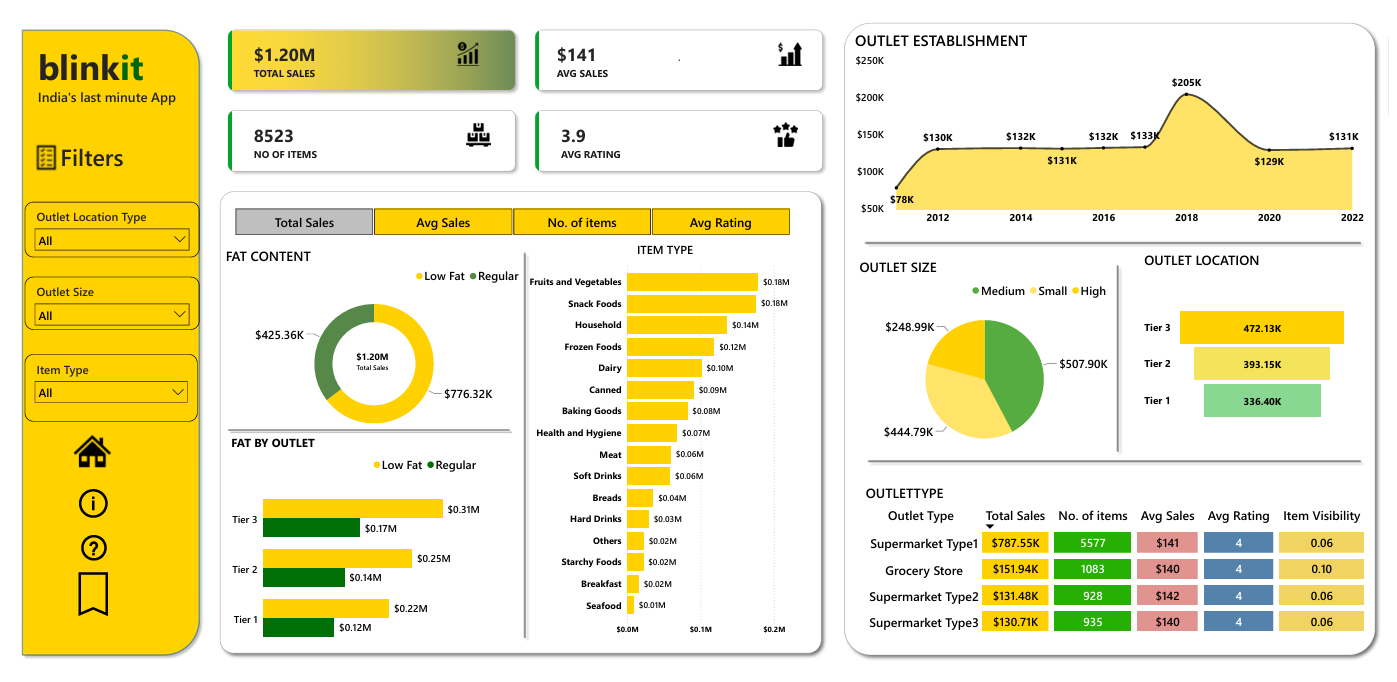

This screenshot's page, from the dashboard's own definition file:
{"tool":"powerbi","page":{"name":"Blinkit_Dashboard","canvas":[2200,1050],"ordinal":0},"visuals":[{"type":"shape","box":[3.2,14.6,301.9,1019.5],"z":0},{"type":"textbox","box":[32.5,39,193.2,99],"z":1000},{"type":"textbox","box":[32.5,112,241.9,51.9],"z":2000},{"type":"cardVisual","fields":{"Data":["BlinkIT Grocery Data.Total Sales","BlinkIT Grocery Data.Avg Sales","BlinkIT Grocery Data.No. of items","BlinkIT Grocery Data.Avg Rating"]},"box":[318.2,0,1000,276],"z":3000},{"type":"shape","box":[318.1,271.6,985.2,761.6],"z":4000},{"type":"donutChart","title":"FAT CONTENT","fields":{"Y":["BlinkIT Grocery Data.Total Sales"],"Category":["BlinkIT Grocery Data.Item Fat Content"]},"box":[337.7,370.7,475.5,312.5],"z":5000},{"type":"slicer","fields":{"Values":["Metrics.Metrics"]},"box":[328.4,302.6,937,56.7],"z":6000},{"type":"cardVisual","fields":{"Data":["BlinkIT Grocery Data.Total Sales"]},"box":[518.2,518.2,110.6,71.8],"z":7000},{"type":"clusteredBarChart","title":"FAT BY OUTLET","fields":{"Y":["BlinkIT Grocery Data.Total Sales"],"Category":["BlinkIT Grocery Data.Outlet Location Type"],"Series":["BlinkIT Grocery Data.Item Fat Content"]},"box":[342.1,672.2,407.5,364.5],"z":8000},{"type":"barChart","title":"ITEM TYPE","fields":{"Y":["BlinkIT Grocery Data.Total Sales"],"Category":["BlinkIT Grocery Data.Item Type"]},"box":[818.2,362,446.4,639.6],"z":9000},{"type":"shape","box":[1318.2,1.6,871.8,1034.1],"z":10000},{"type":"lineChart","title":"OUTLET ESTABLISHMENT","fields":{"Category":["BlinkIT Grocery Data.Outlet Establishment Year"],"Y":["BlinkIT Grocery Data.Total Sales"]},"box":[1341.1,24.1,825.3,321.5],"z":11000},{"type":"donutChart","title":"OUTLET SIZE","fields":{"Y":["BlinkIT Grocery Data.Total Sales"],"Category":["BlinkIT Grocery Data.Outlet Size"]},"box":[1353.1,388.6,400.6,321.5],"z":12000},{"type":"funnel","title":"OUTLET LOCATION","fields":{"Y":["Sum(BlinkIT Grocery Data.Sales)"],"Category":["BlinkIT Grocery Data.Outlet Location Type"]},"box":[1803.5,378.2,335.3,331.8],"z":13000},{"type":"pivotTable","title":"OUTLETTYPE","fields":{"Rows":["BlinkIT Grocery Data.Outlet Type"],"Values":["BlinkIT Grocery Data.Total Sales","BlinkIT Grocery Data.No. of items","BlinkIT Grocery Data.Avg Sales","BlinkIT Grocery Data.Avg Rating","Avg(BlinkIT Grocery Data.Item Visibility)"]},"box":[1363.4,749.6,827,287.1],"z":14000},{"type":"slicer","fields":{"Values":["BlinkIT Grocery Data.Outlet Location Type"]},"box":[15.5,298.9,280.8,89.3],"z":15000},{"type":"slicer","fields":{"Values":["BlinkIT Grocery Data.Outlet Size"]},"box":[15.5,419.2,280.8,84.4],"z":16000},{"type":"slicer","fields":{"Values":["BlinkIT Grocery Data.Item Type"]},"box":[15.5,543.4,277.6,107.1],"z":17000},{"type":"textbox","box":[67.9,196,159.1,75.7],"z":18000},{"type":"actionButton","title":"cfghygvhbhb","box":[100.9,826.8,56.3,52.4],"z":19000},{"type":"actionButton","box":[97,741.4,58.2,81.5],"z":20000},{"type":"actionButton","box":[15.5,196,68.2,63.3],"z":21000},{"type":"actionButton","box":[83.5,659.8,85.4,81.5],"z":22000},{"type":"actionButton","box":[83.5,875.3,85.4,102.9],"z":23000},{"type":"shape","box":[696.4,371.8,241.9,634.7],"z":24000},{"type":"shape","box":[337,653.3,460.8,22.4],"z":25000},{"type":"shape","box":[1353.1,355.9,811.5,15.5],"z":26000},{"type":"shape","box":[1645.4,392,242.4,316.4],"z":27000},{"type":"shape","box":[1358.2,682.6,806.3,63.6],"z":28000}]}

Visuals, with their boxes in screenshot pixels (x1, y1, x2, y2), scaled from the page's 2200x1050 canvas onto the 1397x682 screenshot:
shape: crop(2, 9, 194, 672)
textbox: crop(21, 25, 143, 90)
textbox: crop(21, 73, 174, 106)
cardVisual - BlinkIT Grocery Data.Total Sales x BlinkIT Grocery Data.Avg Sales: crop(202, 0, 837, 179)
shape: crop(202, 176, 828, 671)
"FAT CONTENT" donutChart: crop(214, 241, 516, 444)
slicer - Metrics.Metrics: crop(209, 197, 804, 233)
cardVisual - BlinkIT Grocery Data.Total Sales: crop(329, 337, 399, 383)
"FAT BY OUTLET" clusteredBarChart: crop(217, 437, 476, 673)
"ITEM TYPE" barChart: crop(520, 235, 803, 651)
shape: crop(837, 1, 1391, 673)
"OUTLET ESTABLISHMENT" lineChart: crop(852, 16, 1376, 224)
"OUTLET SIZE" donutChart: crop(859, 252, 1114, 461)
"OUTLET LOCATION" funnel: crop(1145, 246, 1358, 461)
"OUTLETTYPE" pivotTable: crop(866, 487, 1391, 673)
slicer - BlinkIT Grocery Data.Outlet Location Type: crop(10, 194, 188, 252)
slicer - BlinkIT Grocery Data.Outlet Size: crop(10, 272, 188, 327)
slicer - BlinkIT Grocery Data.Item Type: crop(10, 353, 186, 423)
textbox: crop(43, 127, 144, 176)
"cfghygvhbhb" actionButton: crop(64, 537, 100, 571)
actionButton: crop(62, 482, 99, 534)
actionButton: crop(10, 127, 53, 168)
actionButton: crop(53, 429, 107, 481)
actionButton: crop(53, 569, 107, 635)
shape: crop(442, 241, 596, 654)
shape: crop(214, 424, 507, 439)
shape: crop(859, 231, 1375, 241)
shape: crop(1045, 255, 1199, 460)
shape: crop(862, 443, 1374, 485)
